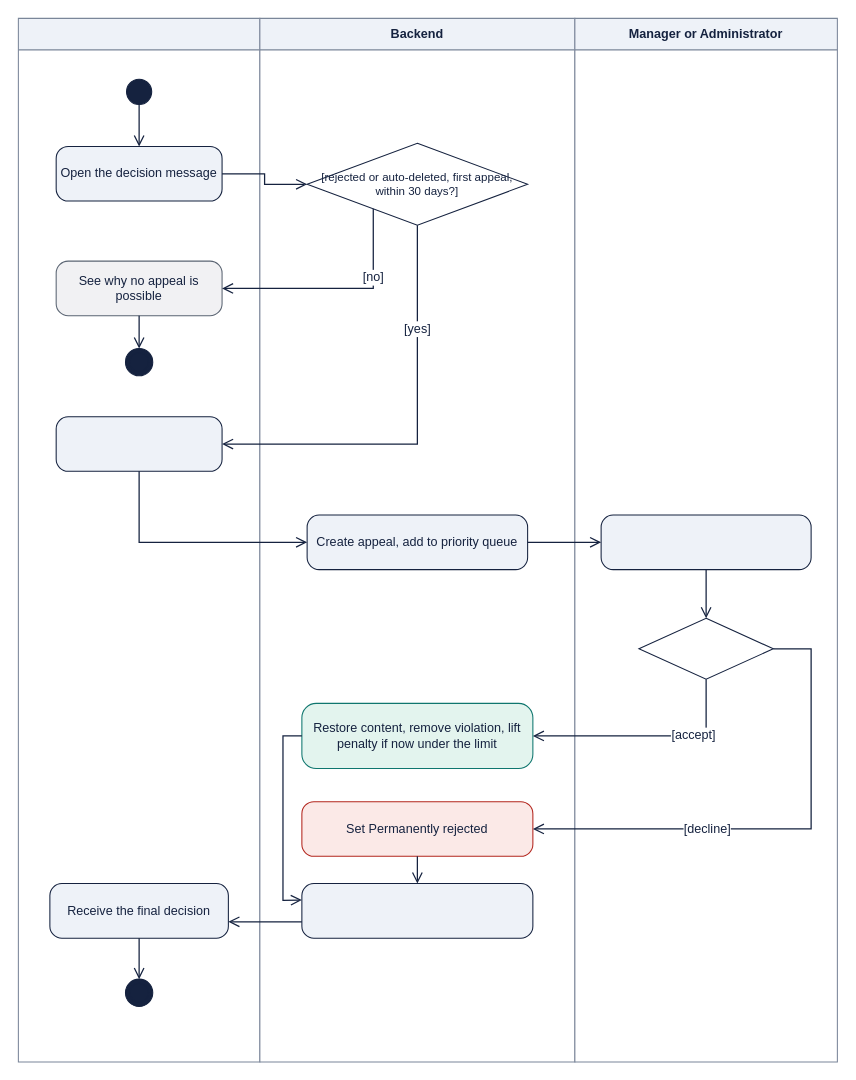
Image size: 856x1080. Some labels were removed from this diagram. Each missing label, with the box of its shape:
[decision?]: (638, 617, 773, 679)
Append audit entry, commit, write outbox event: (301, 883, 533, 938)
Read content, original decision and reason: (600, 514, 811, 570)
Resident: (17, 17, 260, 1062)
Write reason, 20 to 2,000 characters, and confirm: (55, 416, 222, 471)
